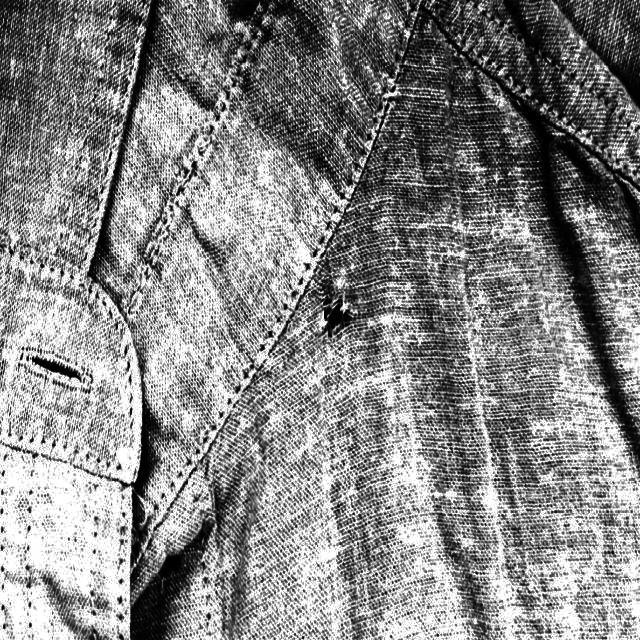Hole: (306, 288, 359, 343)
